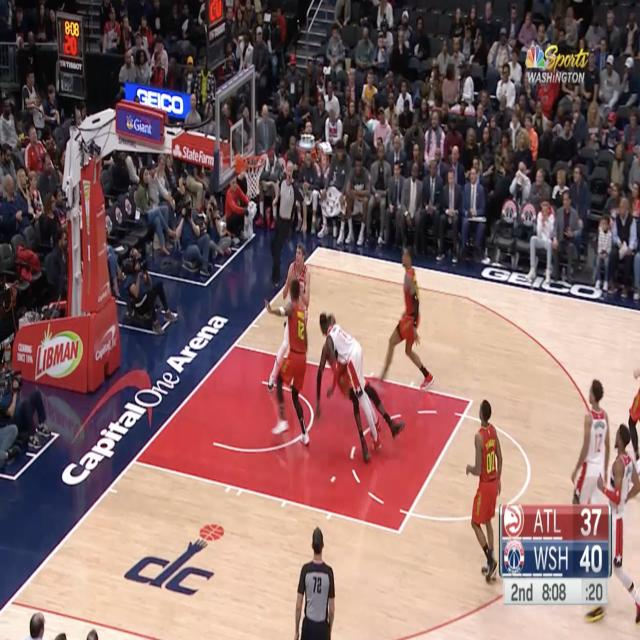Foul: (316, 302, 402, 483)
